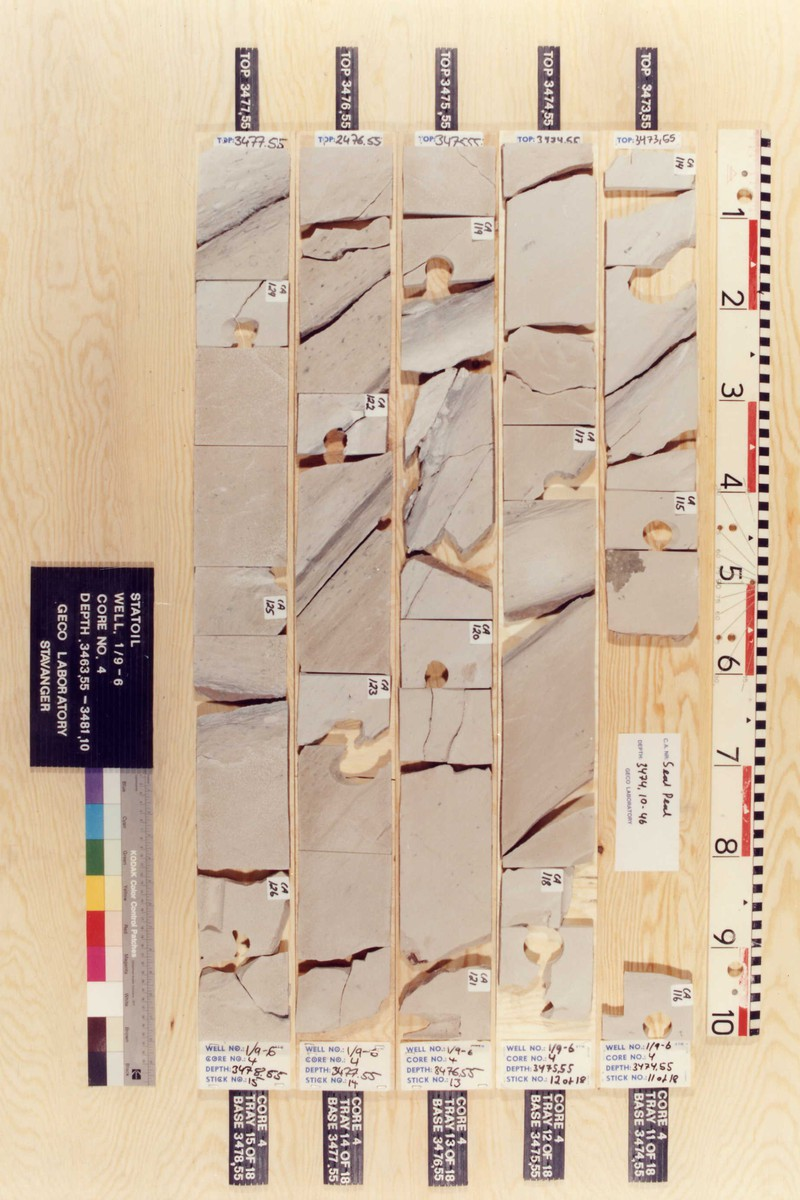core: (194, 145, 292, 1045), (400, 145, 498, 1041), (503, 145, 598, 1030), (299, 146, 392, 1040), (600, 151, 702, 638), (605, 964, 695, 1043)
